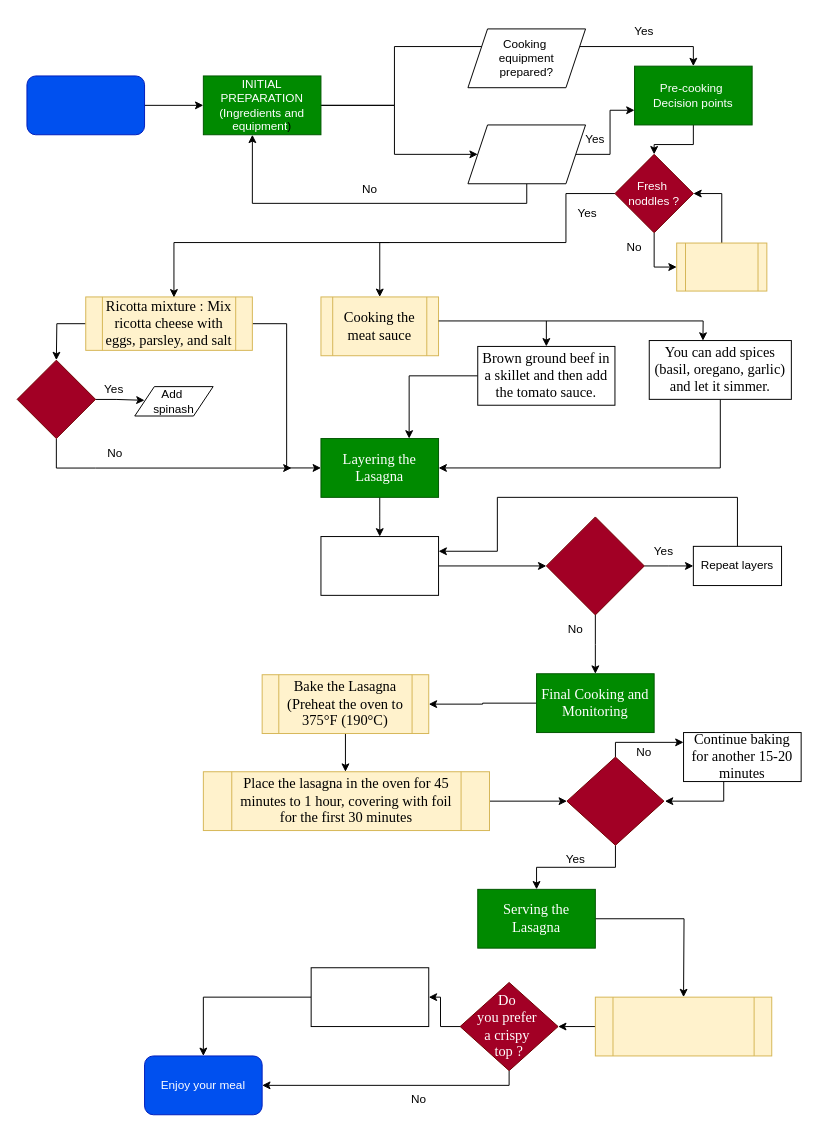
Some shapes in this 818 by 1132 pixel diagram are drawn without their labels. Here are the shapes that lost their labels. From the top down, the centre of each, then its label:
At point 85,105: "START".
At point 526,154: "Necessary ingredients gathered?".
At point 721,266: "Boil for 10-12 min and rain.".
At point 56,399: "Using spinash?".
At point 379,565: "Layer : sauce - noodles - ricotta mixture - mozzarella".
At point 594,565: "Do you want thicker Lasagna?".
At point 615,800: "Is cheese melting properly ?".
At point 369,997: "Broil the lasagna for the last 2-3 minutes.".
At point 683,1026: "Let the lasagna cool for 10-15 minutes before serving.".
